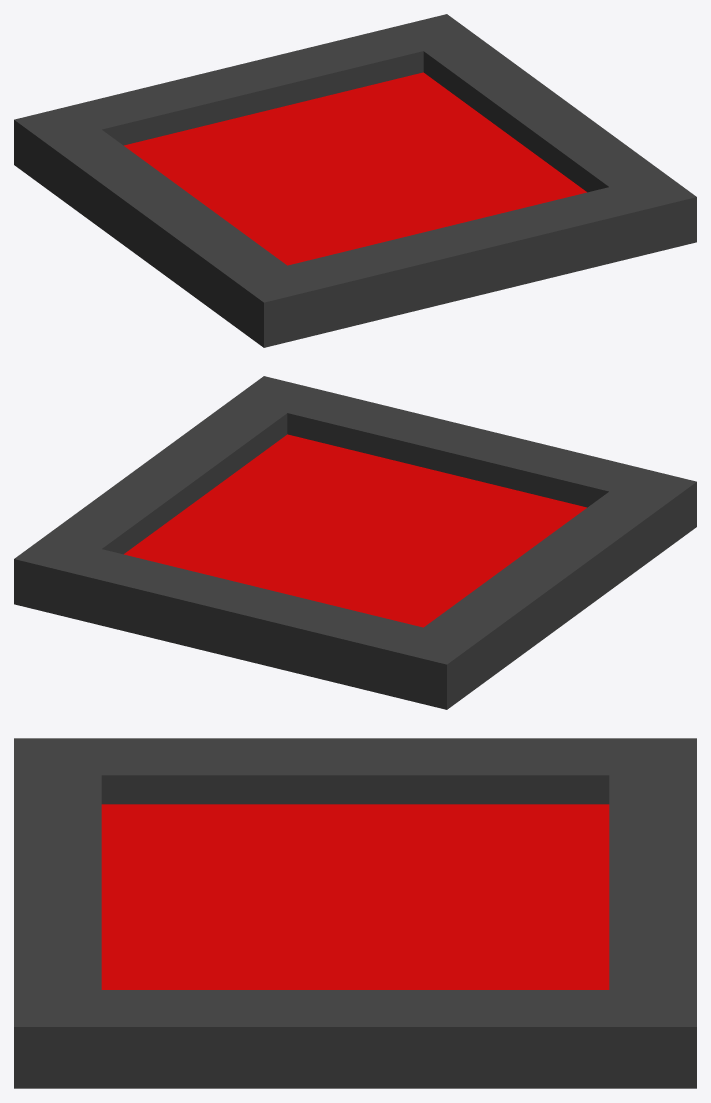
The model's file is HouseWindow.fbx.
3 renders of one model, top to bottom at view 1: azimuth 30°, elevation 25°; view 2: azimuth 150°, elevation 25°; view 3: azimuth 270°, elevation 25°, orthographic. The views are drawn at different scales.
Parts seen in each view (by area): view 1: HouseWindow; view 2: HouseWindow; view 3: HouseWindow.
Boxes of the visible parts, x1,y1,x2,y2 form: HouseWindow: (14, 14, 696, 347); HouseWindow: (14, 376, 696, 709); HouseWindow: (14, 738, 696, 1088).
Size of the model in its own units: 14981 by 1498 by 14981.
